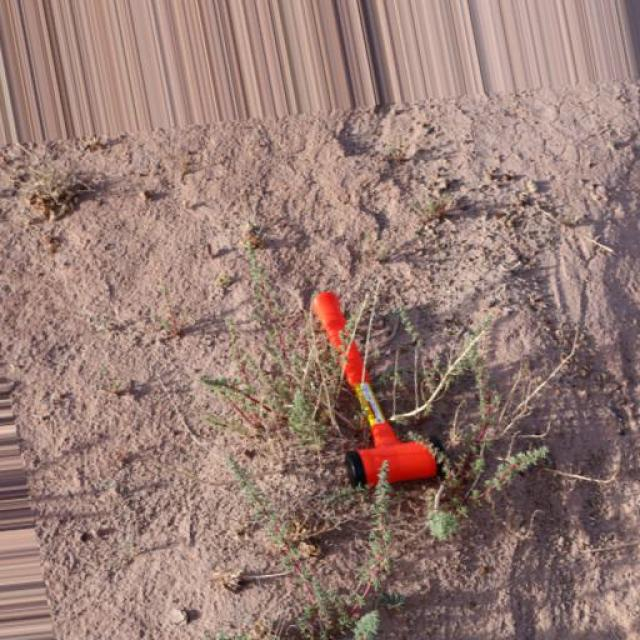mallet: (308, 289, 438, 490)
